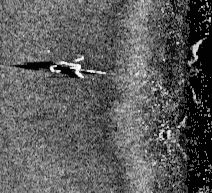man: (48, 53, 110, 81)
